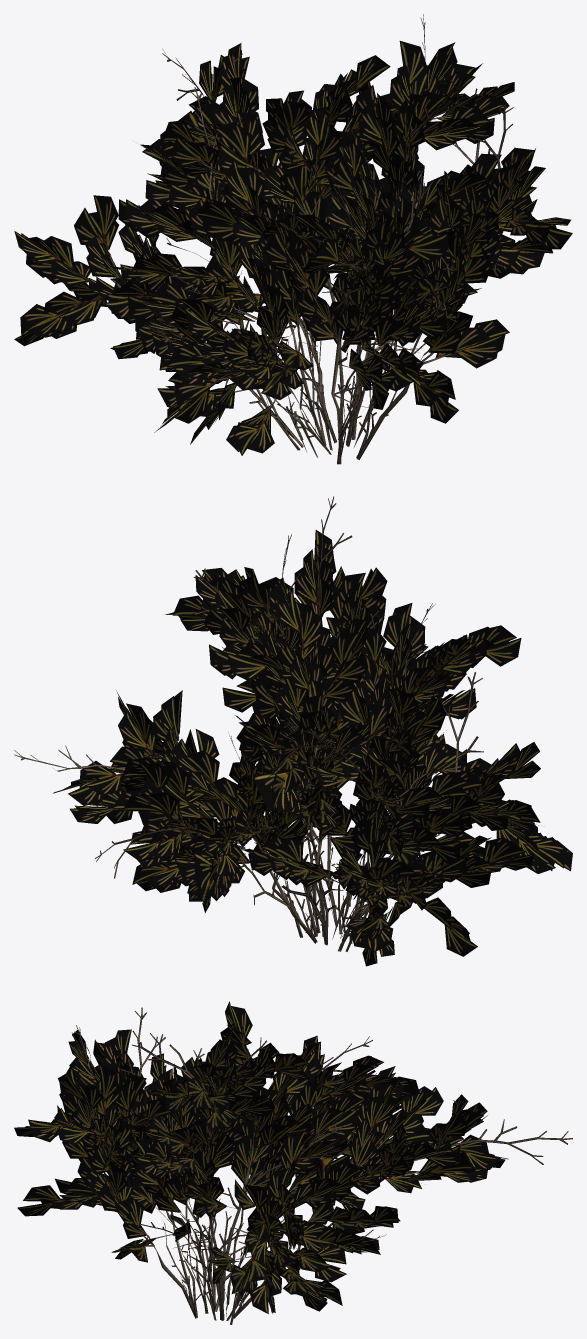
The model's file is kuru_cali_a.gltf.
3 renders of one model, top to bottom at view 1: azimuth 30°, elevation 25°; view 2: azimuth 150°, elevation 25°; view 3: azimuth 270°, elevation 25°, orthographic. The views are drawn at different scales.
Parts seen in each view (by area): view 1: kuru_cali_a; view 2: kuru_cali_a; view 3: kuru_cali_a.
Part boxes in pixels (bbox=[...]): kuru_cali_a: bbox=[14, 14, 572, 464]; kuru_cali_a: bbox=[14, 496, 572, 966]; kuru_cali_a: bbox=[14, 1001, 572, 1324].
Size of the model in its own units: 0.6966 by 0.5395 by 0.8434.
3 materials, 3 textured.
